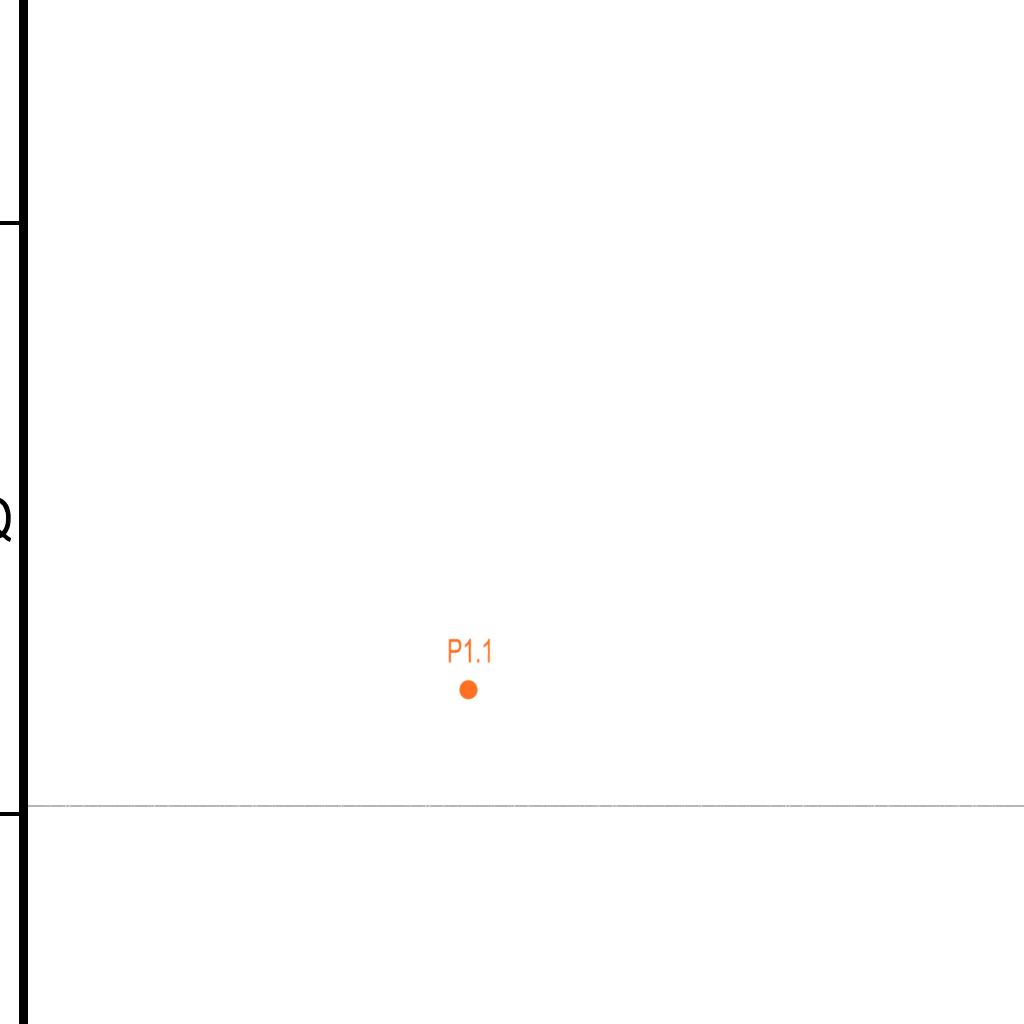Downlight_LED_Einbauleuchten_Flur_2: (447, 637, 493, 701)
